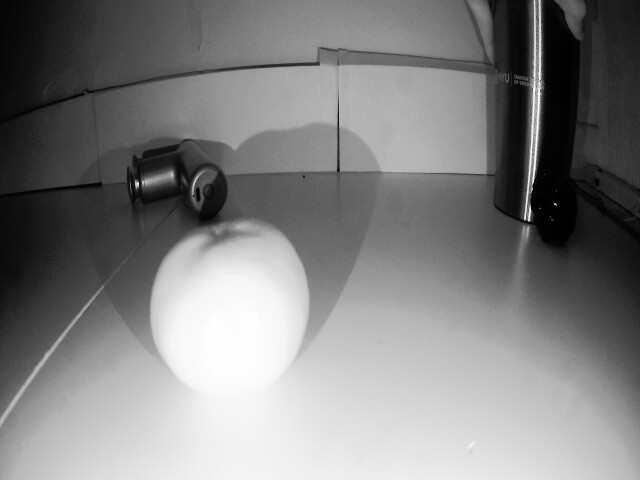black: (528, 176, 582, 226)
